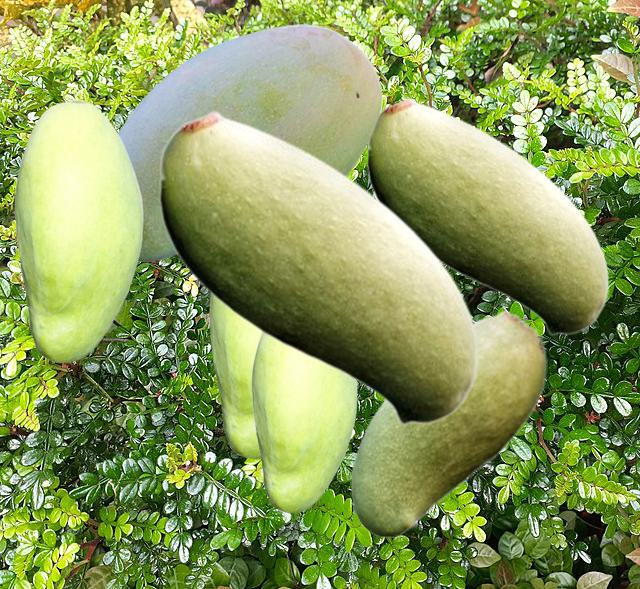green_mango: (158, 109, 478, 425), (117, 24, 382, 260), (366, 96, 608, 335), (350, 309, 546, 536), (14, 99, 142, 362), (251, 334, 356, 512), (209, 296, 260, 458)
